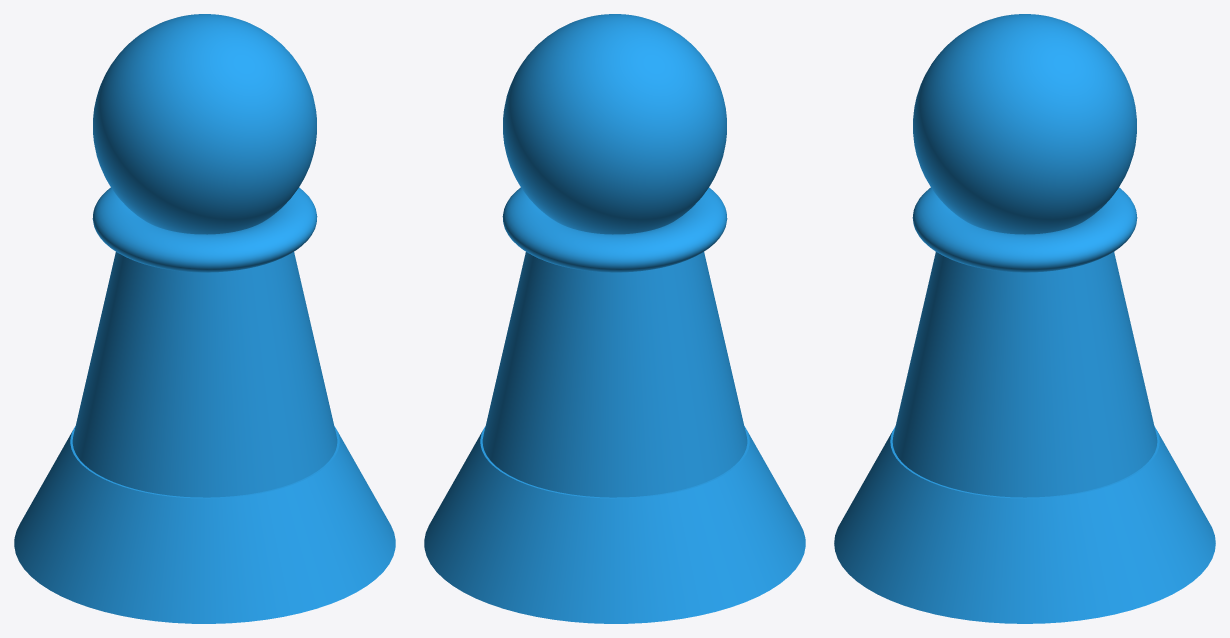
Rendered from quoridor_pawn_blue.glb.
3 views of the same model, side by side, from view 1: azimuth 30°, elevation 25°; view 2: azimuth 150°, elevation 25°; view 3: azimuth 270°, elevation 25° (orthographic).
Parts seen in each view (by area): view 1: Body, Foot, Head, Collar; view 2: Body, Foot, Head, Collar; view 3: Body, Foot, Head, Collar.
Part boxes in pixels (left/top/right/bottom): Body: left=72, top=252, right=337, bottom=497; Foot: left=14, top=426, right=395, bottom=623; Head: left=93, top=14, right=316, bottom=234; Collar: left=92, top=187, right=317, bottom=272; Body: left=482, top=252, right=747, bottom=497; Foot: left=424, top=426, right=805, bottom=623; Head: left=503, top=14, right=726, bottom=234; Collar: left=502, top=187, right=727, bottom=272; Body: left=892, top=252, right=1157, bottom=497; Foot: left=834, top=426, right=1215, bottom=623; Head: left=913, top=14, right=1136, bottom=234; Collar: left=912, top=187, right=1137, bottom=272.
Bounding box in the file's own units: 0.68 × 1.02 × 0.68.
